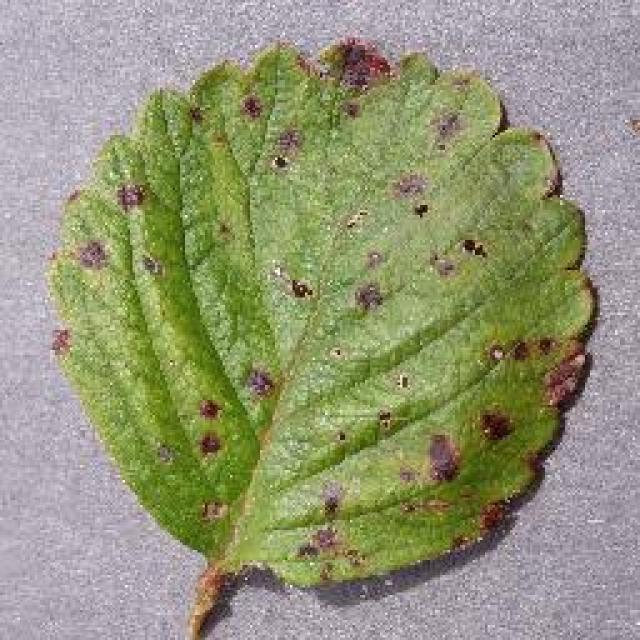Strawberry leaf scorch: (128, 49, 510, 578)
